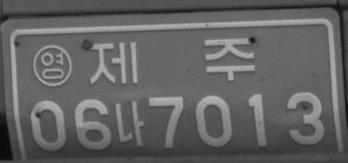0: (194, 93, 233, 148), (30, 99, 67, 153)
1: (244, 92, 275, 147)
3: (286, 91, 325, 147)
6: (74, 98, 113, 151)
7: (147, 95, 183, 149)
나: (113, 100, 146, 147)
영: (32, 44, 73, 87)
제주_D: (86, 36, 255, 85)
